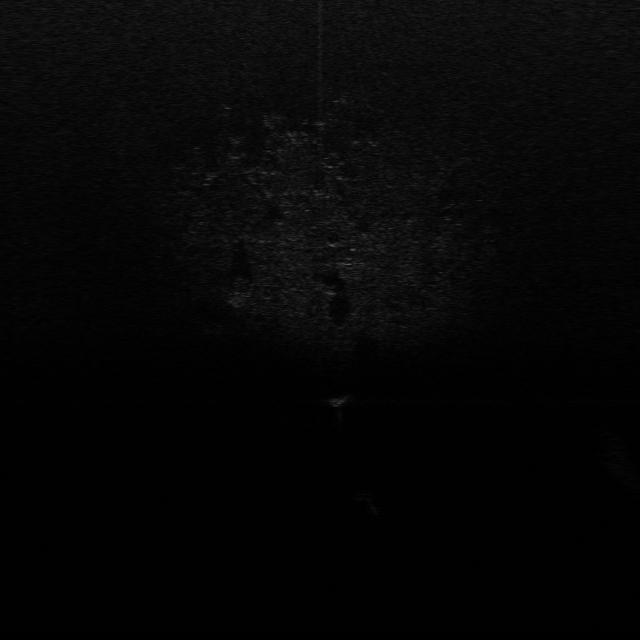cube: (354, 492, 380, 504)
square cage: (324, 392, 356, 409)
